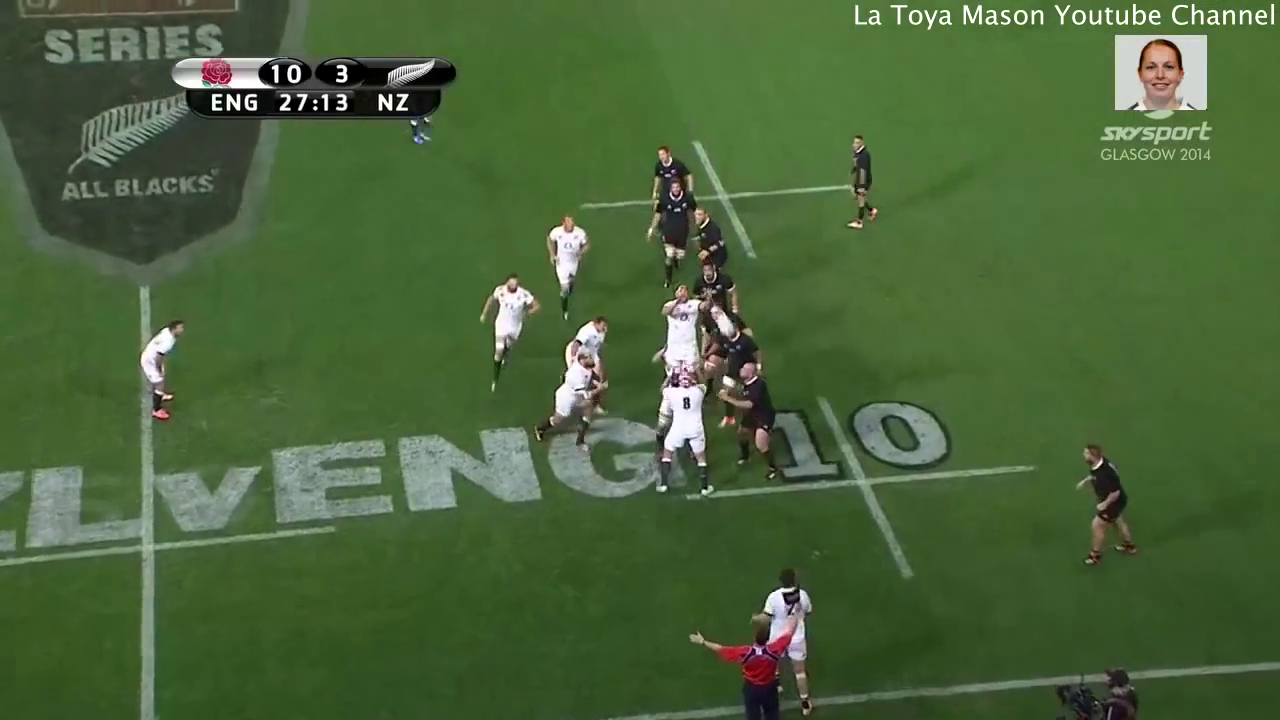10_metre: (677, 388, 1054, 592), (566, 135, 879, 266)
player: (685, 575, 809, 720), (746, 562, 828, 720), (1069, 434, 1153, 580), (473, 268, 543, 404), (648, 369, 719, 503), (716, 358, 777, 486), (538, 208, 600, 320), (532, 351, 598, 454), (132, 314, 194, 423), (657, 279, 711, 391), (843, 128, 887, 236), (649, 181, 693, 289), (679, 201, 730, 279), (685, 256, 750, 310), (713, 319, 765, 378), (561, 314, 607, 378), (649, 142, 693, 207)
